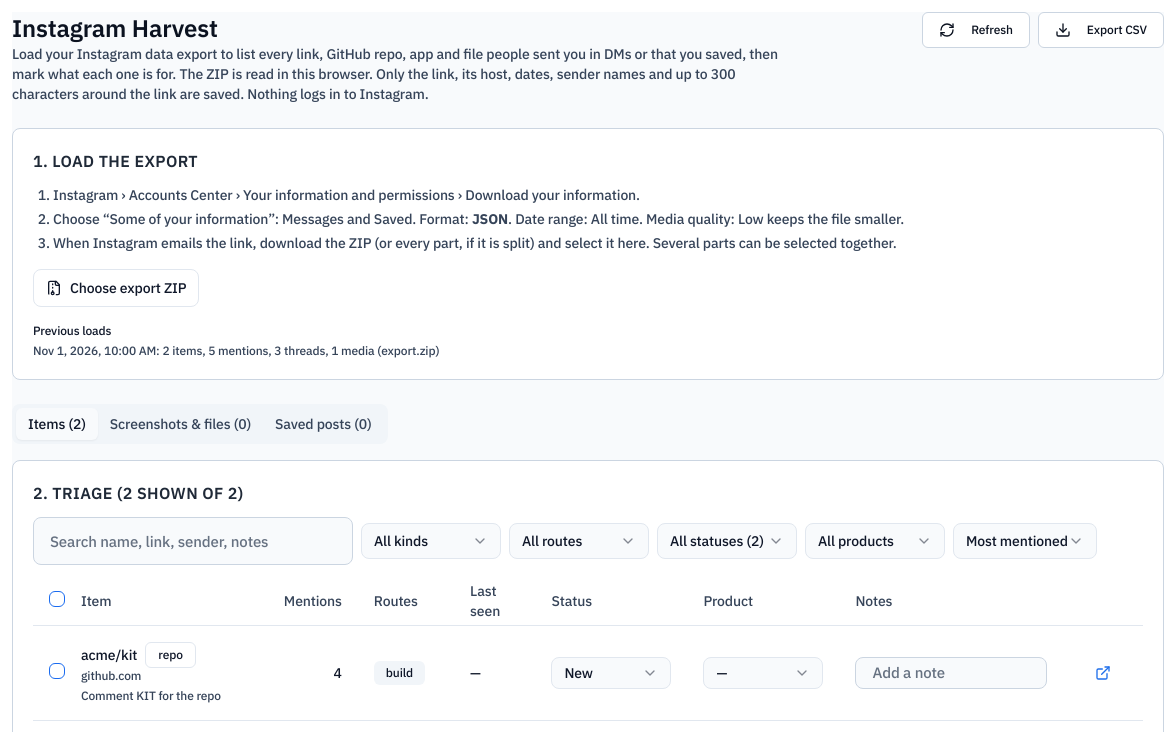
/admin/instagram-harvest page › lists stored items, searches them, and saves a note
Later steps or results of the test are not shown.
Expected: the text "acme/kit" is shown, [81,644,137,664]
Expected: the list item "2 items, 5 mentions, 3 threads, 1 media" is shown, [33,343,439,358]
Type "growth" into the field with placeholder "Search name, link, sender, notes" at (193, 541), box [33,517,353,565]
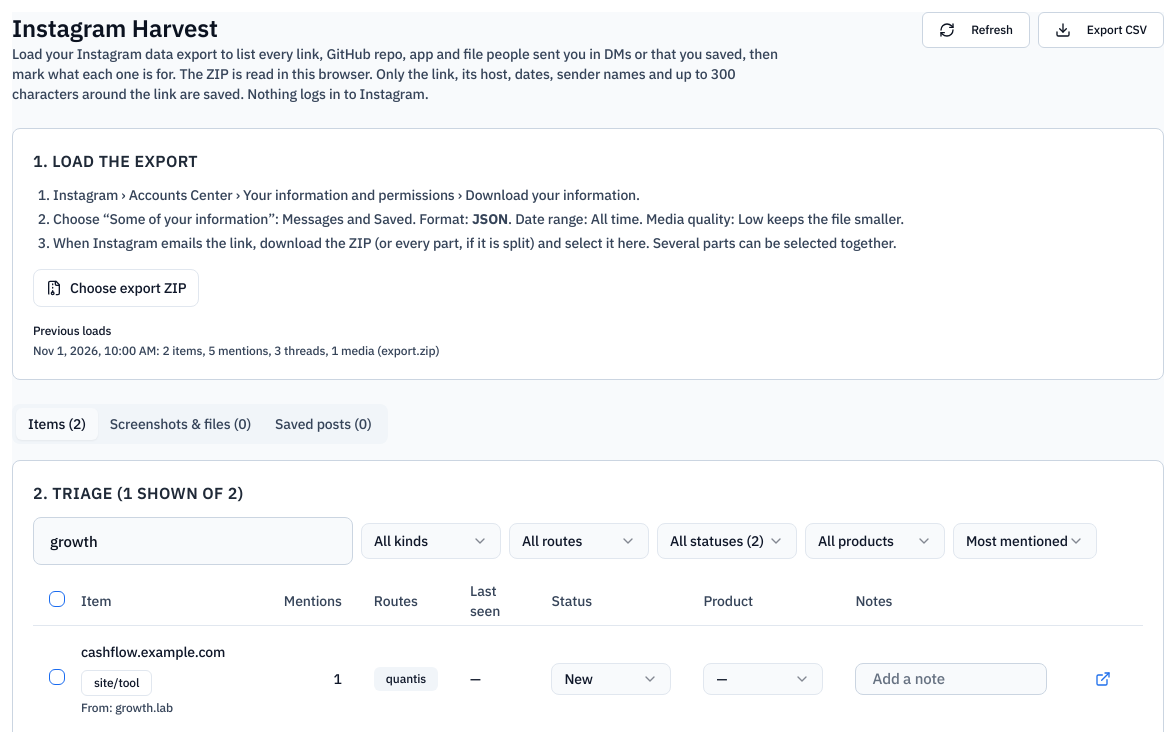
Expected: the text "cashflow.example.com" is shown, [81,642,225,662]
Expected: the text "acme/kit" is gone
